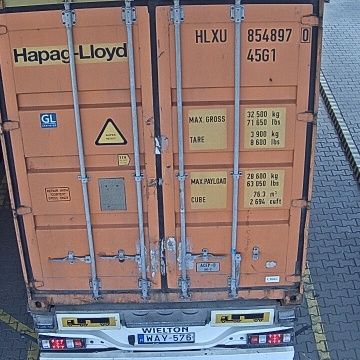serial_id: (196, 27, 310, 42)
